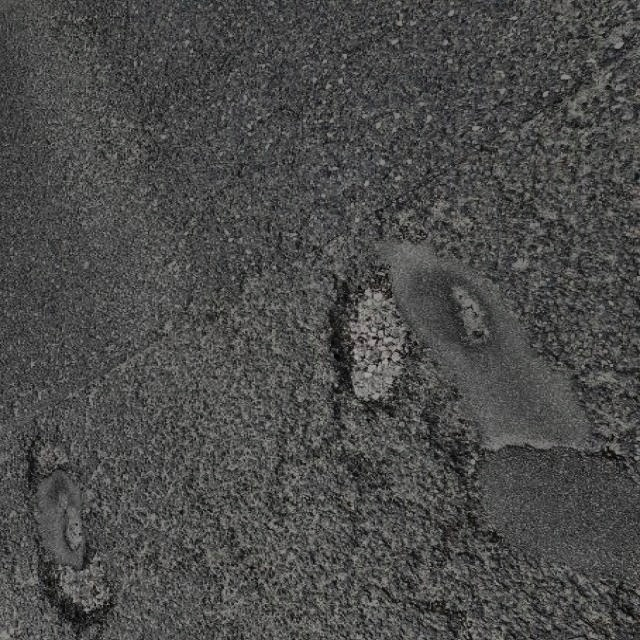Pothole: (18, 421, 122, 631), (320, 248, 430, 410)
